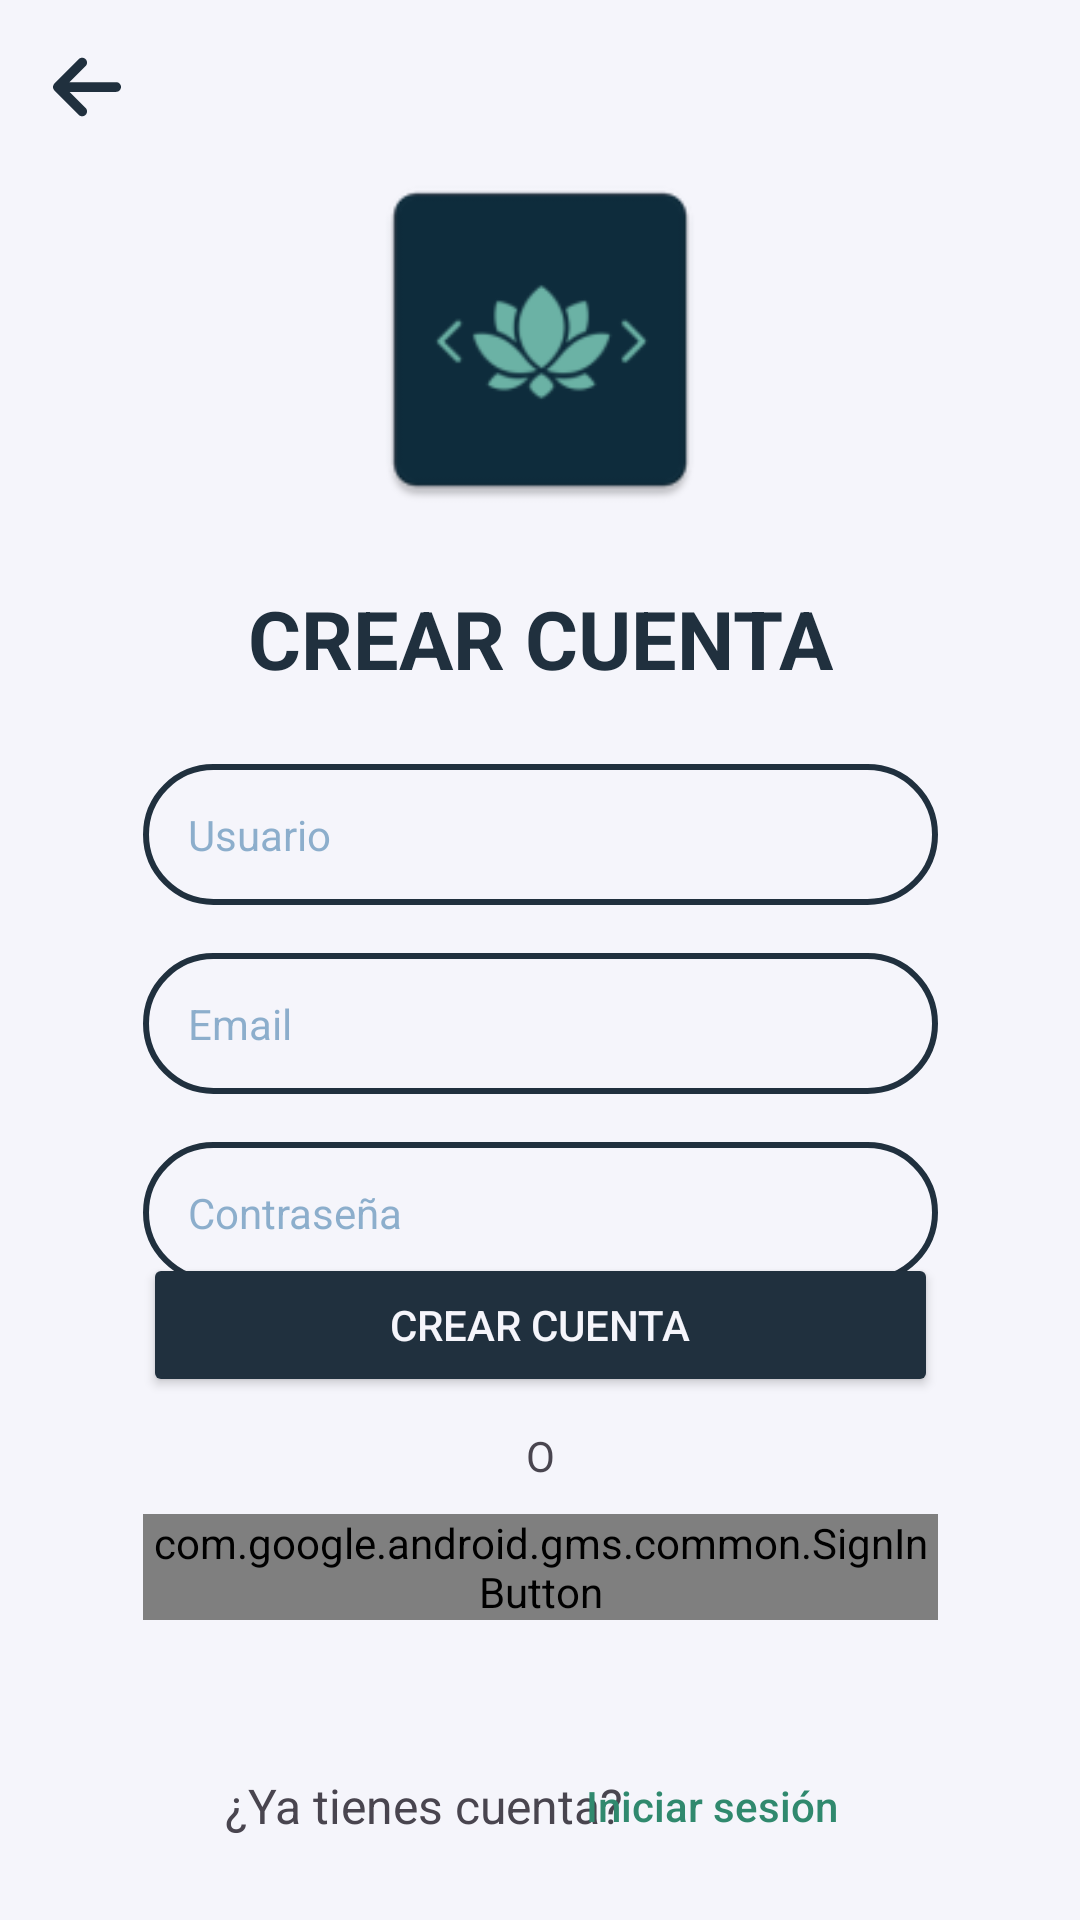

Icons on this 1080w x 1920h Android screen, each with its box as [x1,y1,x2,y2]:
go back arrow: [53,57,121,117]
